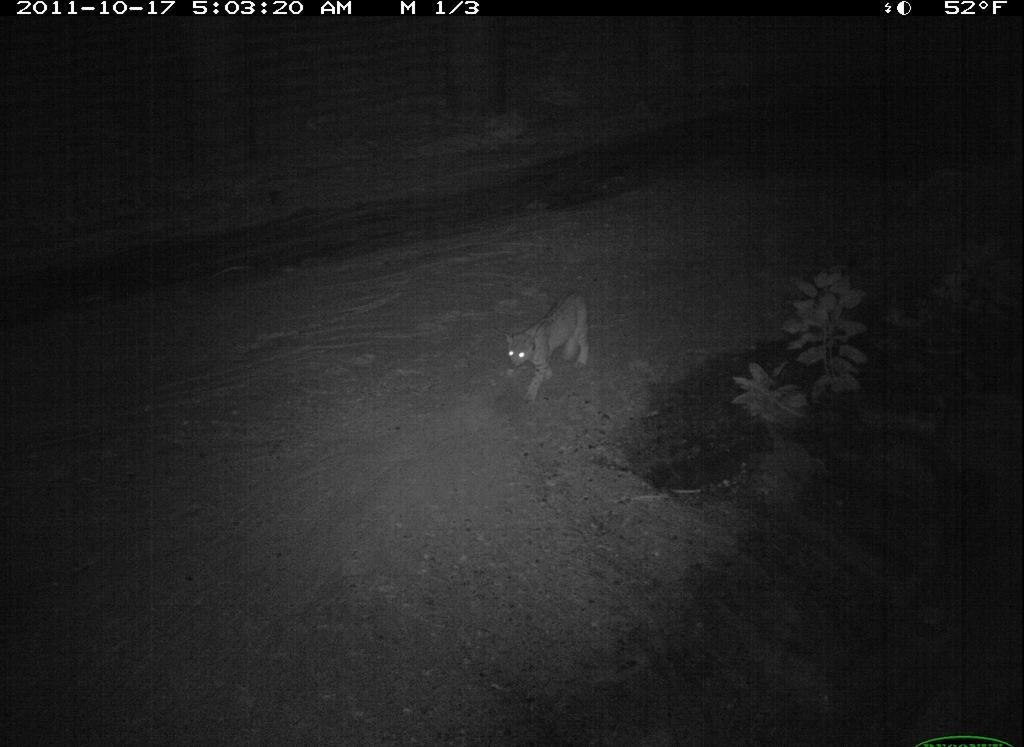bobcat: (489, 281, 606, 419)
